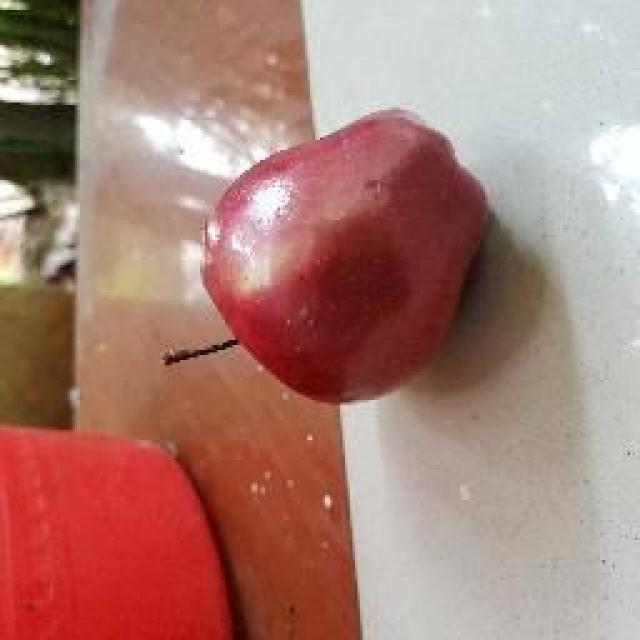Good_Apple: (200, 110, 488, 408)
